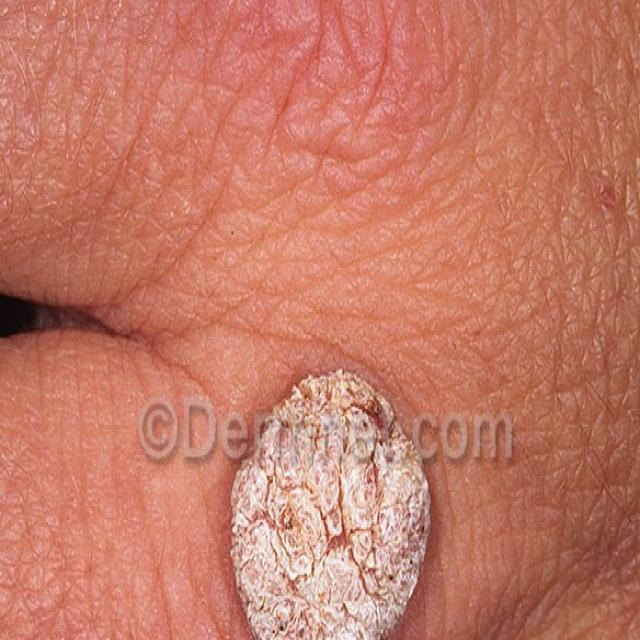Warts: (221, 342, 450, 640)
